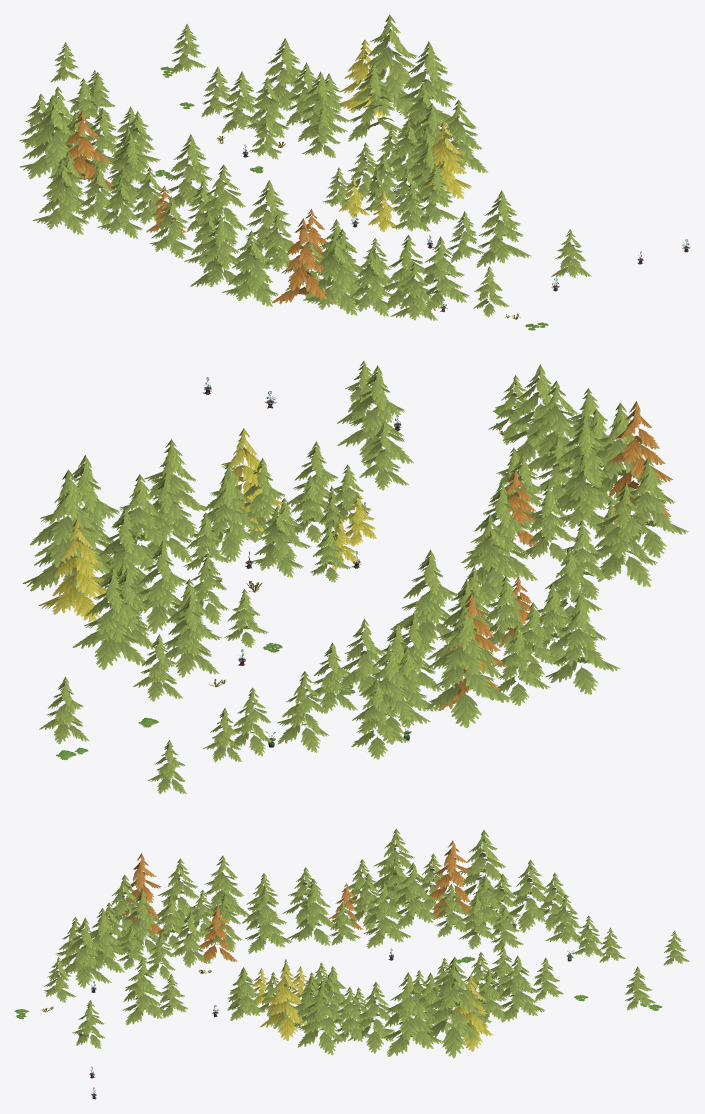
File: zhibei20_1.fbx
3 renders of one model, top to bottom at view 1: azimuth 30°, elevation 25°; view 2: azimuth 150°, elevation 25°; view 3: azimuth 270°, elevation 25°, orthographic. The views are drawn at different scales.
Parts seen in each view (by area): view 1: zhibei20_1; view 2: zhibei20_1; view 3: zhibei20_1.
Boxes of the visible parts, bbox=[...] form: zhibei20_1: bbox=[19, 14, 690, 330]; zhibei20_1: bbox=[23, 361, 688, 794]; zhibei20_1: bbox=[14, 828, 689, 1099].
Bounding box in the file's own units: 5222 × 1162 × 7051.
